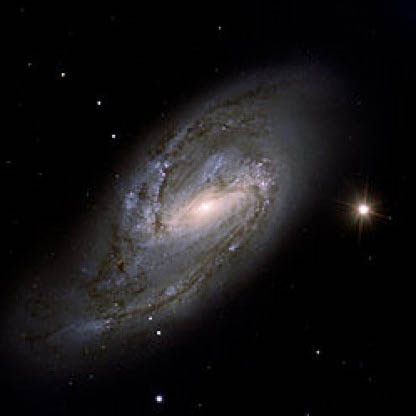Messier 66: (30, 49, 387, 364)
